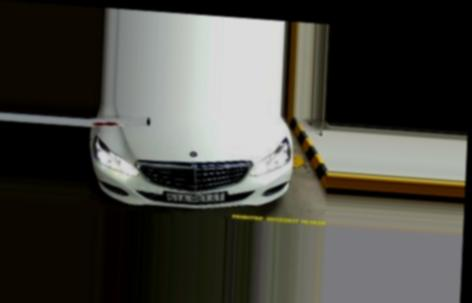License_Plate: (165, 190, 228, 206)
